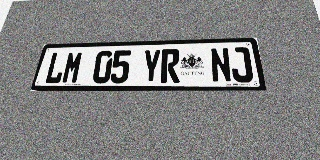0: (92, 51, 114, 83)
5: (110, 50, 131, 83)
J: (229, 47, 254, 82)
L: (43, 52, 68, 84)
M: (61, 51, 84, 84)
N: (210, 47, 232, 83)
R: (161, 49, 180, 83)
Y: (141, 49, 161, 83)
